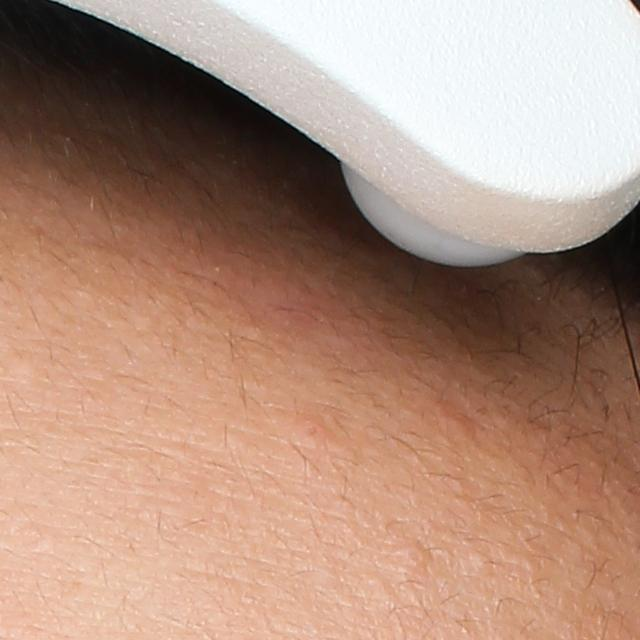comedo: (403, 542, 429, 565), (472, 549, 493, 575)
